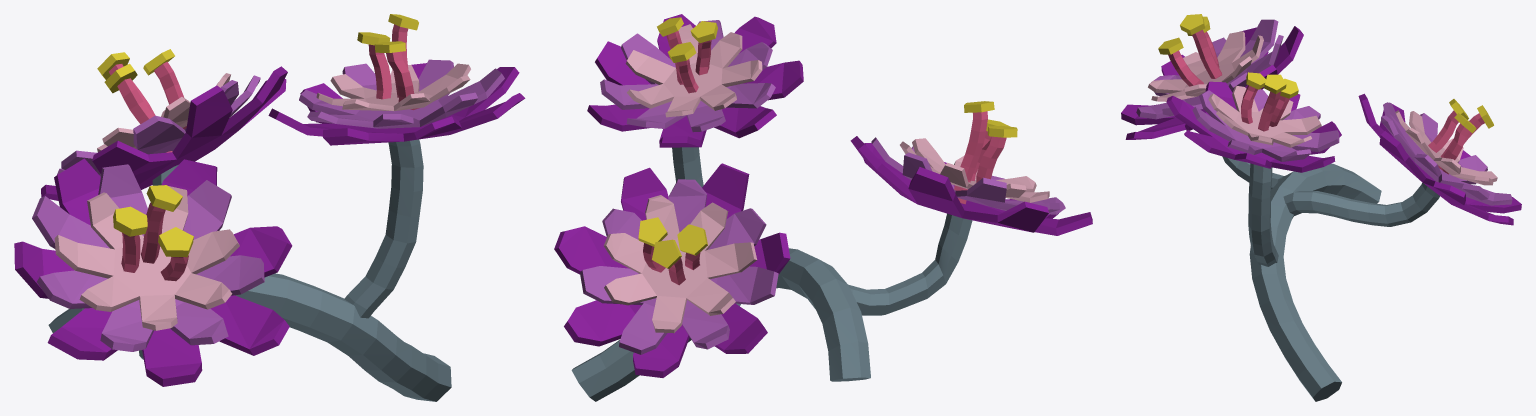
The model's file is modelDraco.gltf.
The picture shows the model from 3 angles, left to right: view 1: azimuth 30°, elevation 25°; view 2: azimuth 150°, elevation 25°; view 3: azimuth 270°, elevation 25°; orthographic projection. The views are drawn at different scales.
Parts seen in each view (by area): view 1: node_MeshObject-1837949952-PolyPaper21; view 2: node_MeshObject-1837949952-PolyPaper21; view 3: node_MeshObject-1837949952-PolyPaper21.
Boxes of the visible parts, <box> form: node_MeshObject-1837949952-PolyPaper21: <box>14,14,525,401</box>; node_MeshObject-1837949952-PolyPaper21: <box>554,14,1092,401</box>; node_MeshObject-1837949952-PolyPaper21: <box>1121,14,1521,401</box>.
Size of the model in its own units: 0.3674 by 0.2893 by 0.3457.
